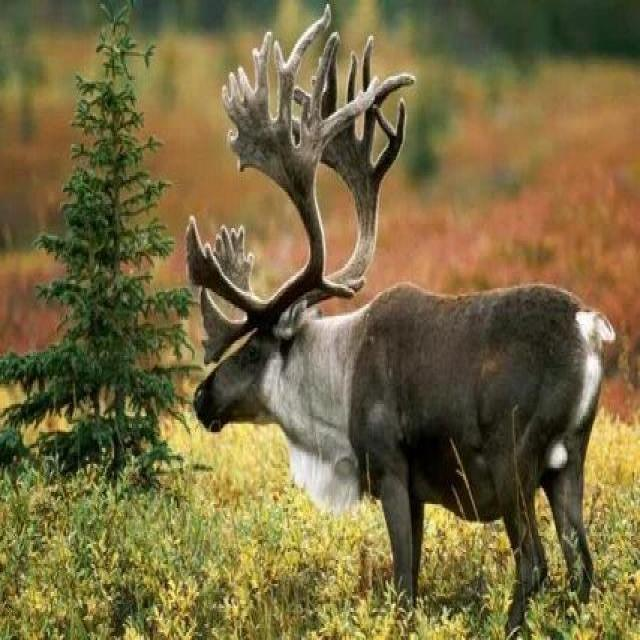deer: (156, 92, 597, 553)
